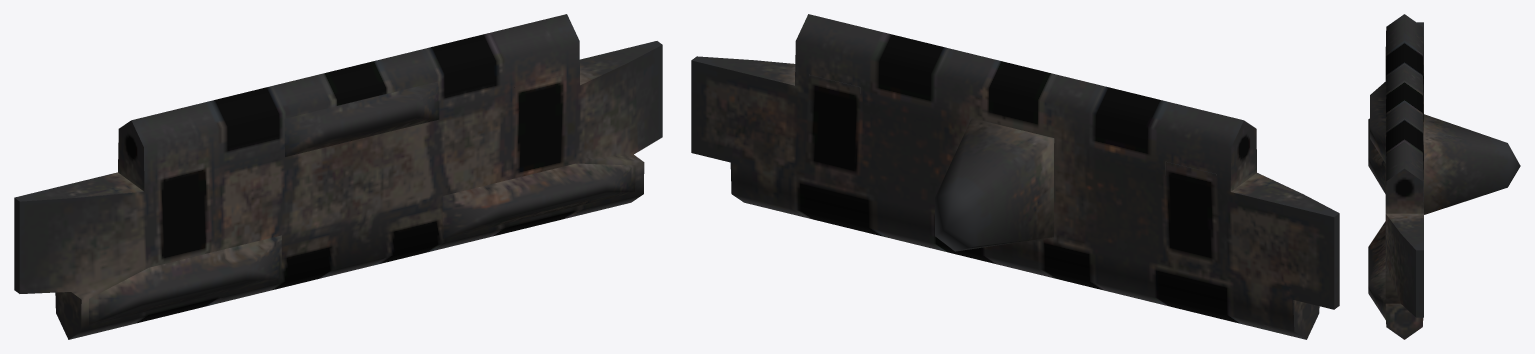
The picture shows the model from 3 angles, left to right: view 1: azimuth 30°, elevation 25°; view 2: azimuth 150°, elevation 25°; view 3: azimuth 270°, elevation 25°; orthographic projection. The views are drawn at different scales.
Parts seen in each view (by area): view 1: set_0_group_0; view 2: set_0_group_0; view 3: set_0_group_0.
Boxes of the visible parts, bbox=[...] form: set_0_group_0: bbox=[14, 14, 662, 339]; set_0_group_0: bbox=[691, 14, 1339, 339]; set_0_group_0: bbox=[1368, 14, 1520, 339].
Bounding box in the file's own units: 0.7212 × 0.2191 × 0.2036.
1 material, 1 textured.
